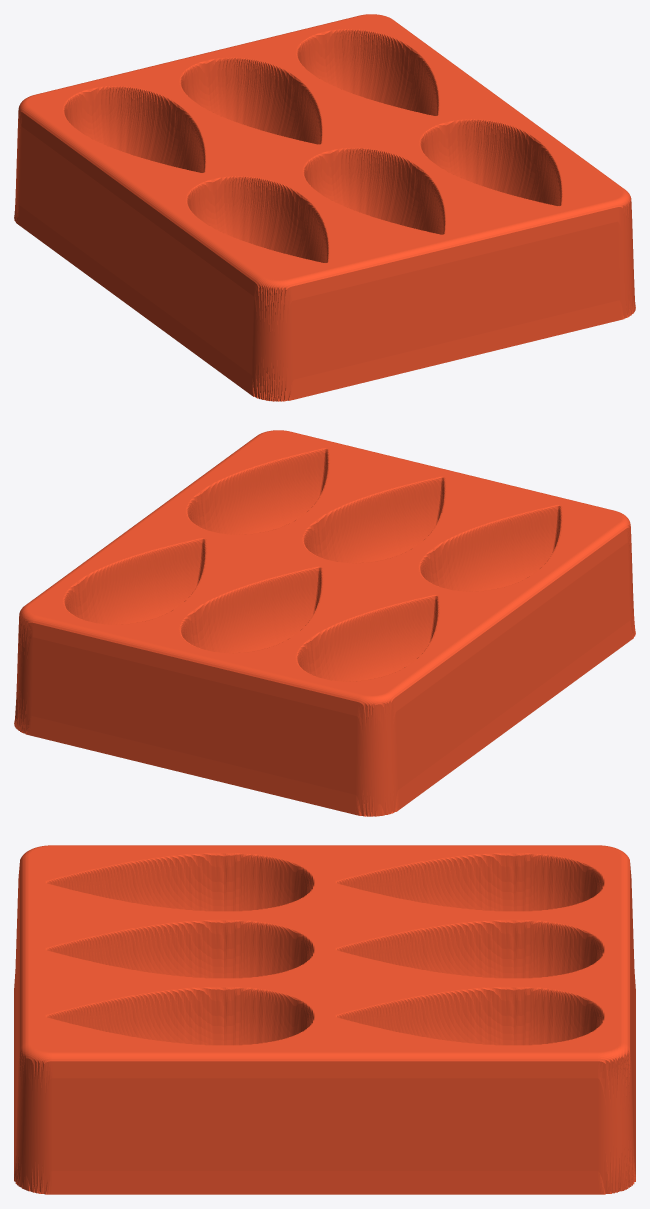
Rendered from mold.glb.
3 views of the same model, one above another, from view 1: azimuth 30°, elevation 25°; view 2: azimuth 150°, elevation 25°; view 3: azimuth 270°, elevation 25° (orthographic). The views are drawn at different scales.
Visible parts, largest first — view 1: geometry_0; view 2: geometry_0; view 3: geometry_0.
Boxes of the visible parts, x1,y1,x2,y2 form: geometry_0: (14,14,635,401); geometry_0: (14,430,635,816); geometry_0: (14,845,635,1194).
Size of the model in its own units: 0.1242 by 0.036 by 0.1492.
